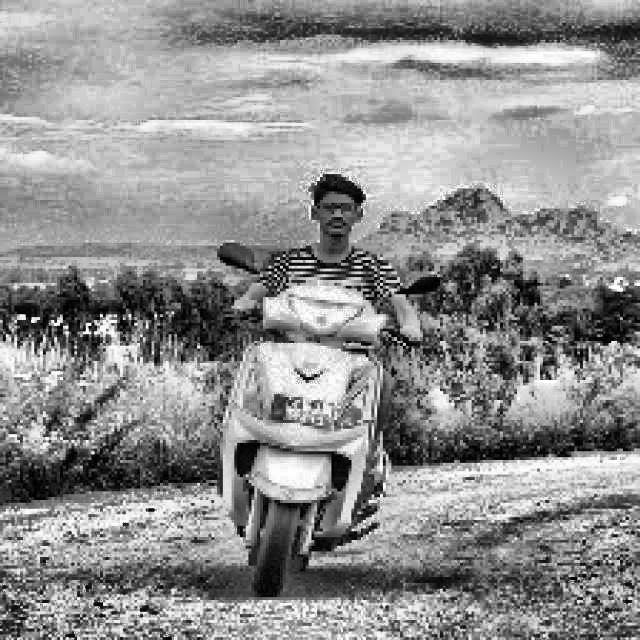motorcycle: (193, 229, 461, 601)
